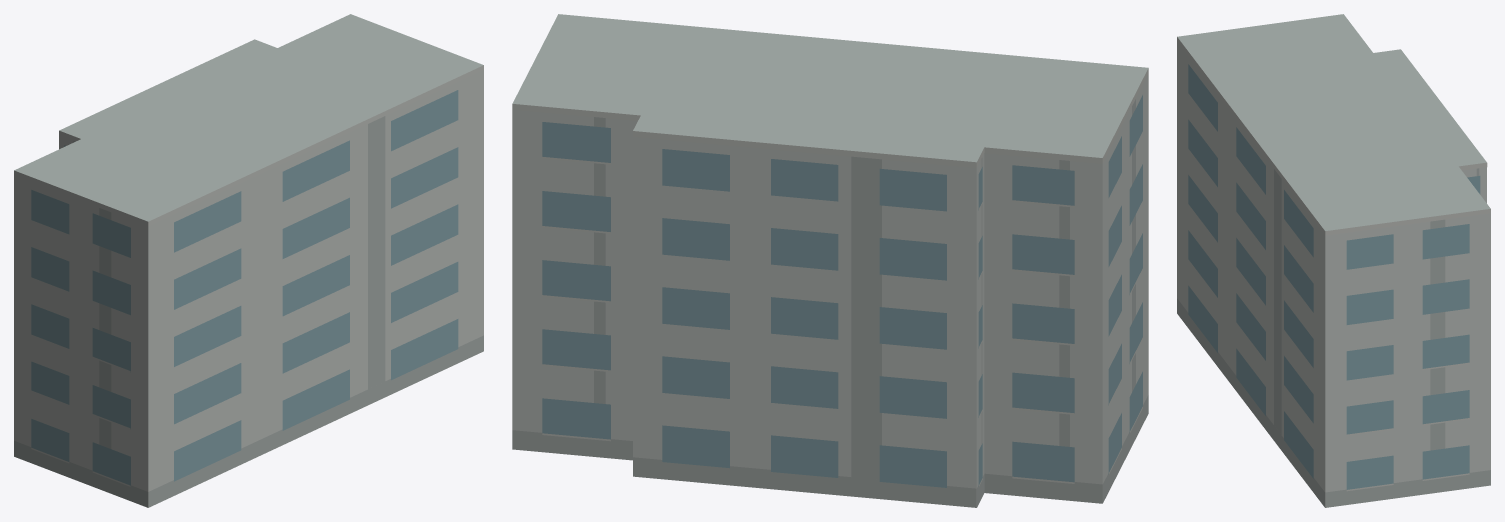
File: residential-6c1eac0f-2f5a-4e75-8bff-a5cf5cc52730.glb
3 views of the same model, side by side, from view 1: azimuth 30°, elevation 25°; view 2: azimuth 150°, elevation 25°; view 3: azimuth 270°, elevation 25° (orthographic). The views are drawn at different scales.
Visible parts, largest first — view 1: residential-6c1eac0f-2f5a-4e75-8bff-a5cf5cc52730.tmp; view 2: residential-6c1eac0f-2f5a-4e75-8bff-a5cf5cc52730.tmp; view 3: residential-6c1eac0f-2f5a-4e75-8bff-a5cf5cc52730.tmp.
Boxes of the visible parts, x1,y1,x2,y2 form: residential-6c1eac0f-2f5a-4e75-8bff-a5cf5cc52730.tmp: (14,14,483,507); residential-6c1eac0f-2f5a-4e75-8bff-a5cf5cc52730.tmp: (512,14,1148,507); residential-6c1eac0f-2f5a-4e75-8bff-a5cf5cc52730.tmp: (1177,14,1490,507).
Size of the model in its own units: 24.5 by 14.55 by 14.96.
